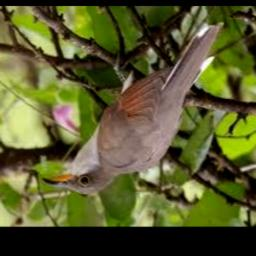Cuckoo: (42, 22, 223, 195)
